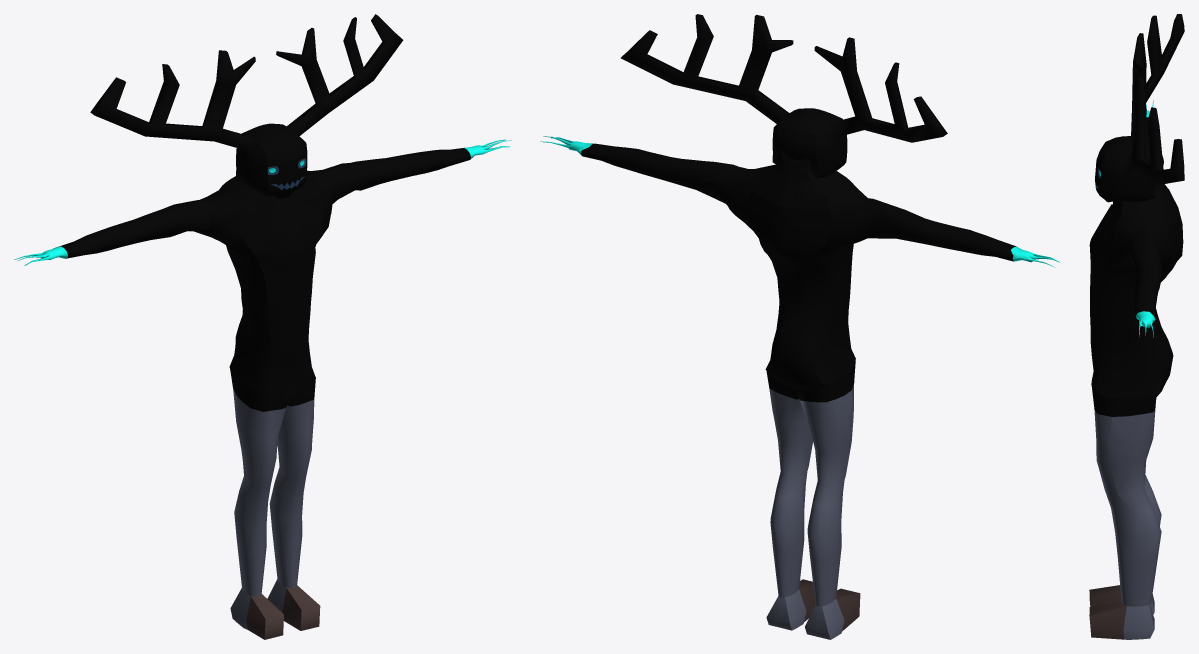
The model's file is Leydrys.fbx.
The picture shows the model from 3 angles, left to right: view 1: azimuth 30°, elevation 25°; view 2: azimuth 150°, elevation 25°; view 3: azimuth 270°, elevation 25°; orthographic projection. The views are drawn at different scales.
Visible parts, largest first — view 1: Box002, CABEZA001; view 2: Box002, CABEZA001; view 3: Box002, CABEZA001.
Boxes of the visible parts, <box> form: Box002: <box>14,139,511,639</box>; CABEZA001: <box>90,14,403,198</box>; Box002: <box>540,136,1059,639</box>; CABEZA001: <box>620,14,947,179</box>; Box002: <box>1089,100,1183,639</box>; CABEZA001: <box>1095,14,1184,202</box>.
Bounding box in the file's own units: 3728 × 4158 × 628.
